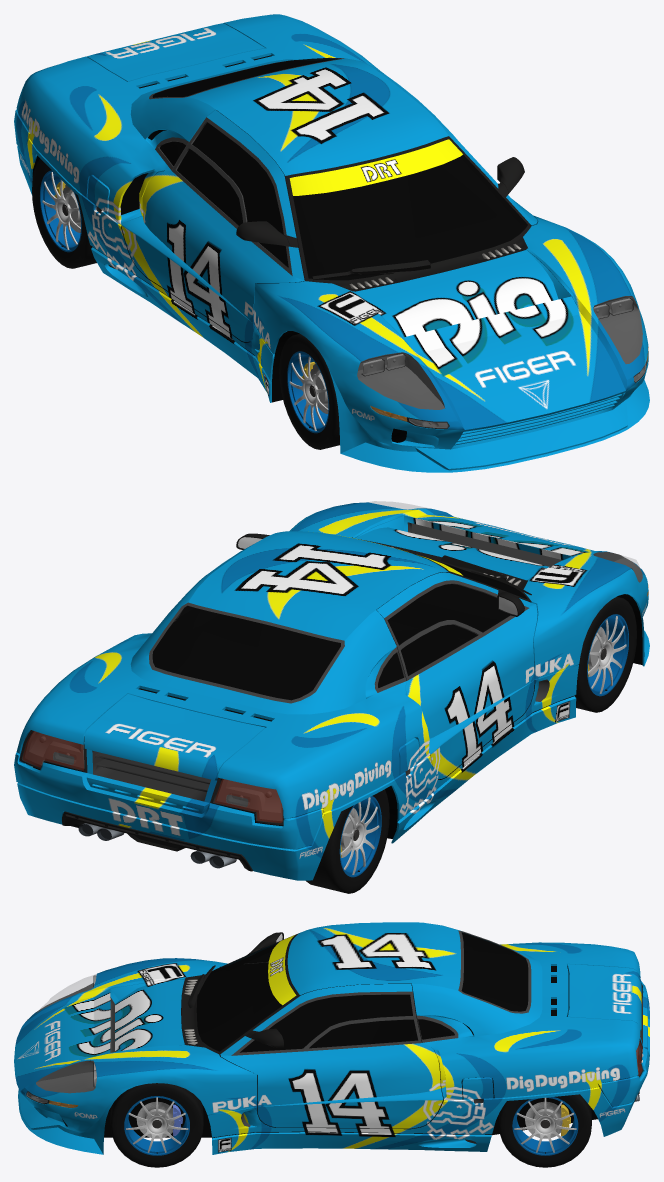
The model's file is car4.fbx.
The picture shows the model from 3 angles, top to bottom: view 1: azimuth 30°, elevation 25°; view 2: azimuth 150°, elevation 25°; view 3: azimuth 270°, elevation 25°; orthographic projection. The views are drawn at different scales.
Visible parts, largest first — view 1: bis_Body.003, bis_Screens.003, bis_HeadLights.003, Rim_FR.003, Rim_RR.003, bis_ScreenStrip.003, bis_DoorMirror.003, bis_Chassis.003, bis_Wiper.003, bis_HeadLightInnerCover.003; view 2: bis_Body.003, bis_Screens.003, Rim_FR.003, Rim_RR.003, bis_TailLamp.003, bis_TailLightCover.003, bis_RearGrill.003, bis_Chassis.003, bis_Exhaust.003, bis_DoorMirror.003, bis_Wiper.003; view 3: bis_Body.003, bis_Screens.003, Rim_FL.003, Rim_RL.003, bis_Chassis.003, bis_HeadLights.003, bis_ScreenStrip.003, bis_BrakeDiscRL.007, bis_BrakeDiscFL.003, bis_DoorMirror.003, bis_HeadLightCover.003.
Part boxes in pixels (bbox=[...]): bis_Body.003: bbox=[14, 14, 649, 472]; bis_Screens.003: bbox=[149, 57, 531, 283]; bis_HeadLights.003: bbox=[357, 296, 642, 409]; Rim_FR.003: bbox=[279, 334, 339, 449]; Rim_RR.003: bbox=[32, 158, 96, 268]; bis_ScreenStrip.003: bbox=[289, 139, 462, 195]; bis_DoorMirror.003: bbox=[236, 157, 524, 247]; bis_Chassis.003: bbox=[32, 155, 533, 422]; bis_Wiper.003: bbox=[312, 260, 430, 280]; bis_HeadLightInnerCover.003: bbox=[363, 299, 633, 375]; bis_Body.003: bbox=[14, 502, 649, 880]; bis_Screens.003: bbox=[149, 549, 531, 703]; Rim_FR.003: bbox=[574, 596, 636, 712]; Rim_RR.003: bbox=[306, 789, 389, 893]; bis_TailLamp.003: bbox=[19, 730, 284, 825]; bis_TailLightCover.003: bbox=[22, 731, 282, 822]; bis_RearGrill.003: bbox=[92, 750, 218, 801]; bis_Chassis.003: bbox=[33, 594, 642, 838]; bis_Exhaust.003: bbox=[78, 823, 236, 868]; bis_DoorMirror.003: bbox=[236, 533, 524, 616]; bis_Wiper.003: bbox=[440, 555, 531, 595]; bis_Body.003: bbox=[14, 922, 649, 1154]; bis_Screens.003: bbox=[194, 930, 531, 1055]; Rim_FL.003: bbox=[110, 1083, 203, 1167]; Rim_RL.003: bbox=[499, 1094, 591, 1167]; bis_Chassis.003: bbox=[104, 966, 604, 1138]; bis_HeadLights.003: bbox=[36, 975, 96, 1093]; bis_ScreenStrip.003: bbox=[268, 935, 296, 1005]; bis_BrakeDiscRL.007: bbox=[525, 1101, 570, 1138]; bis_BrakeDiscFL.003: bbox=[136, 1101, 182, 1138]; bis_DoorMirror.003: bbox=[245, 932, 283, 1047]; bis_HeadLightCover.003: bbox=[40, 974, 96, 1009].
Size of the model in its own units: 174 by 108 by 389.
